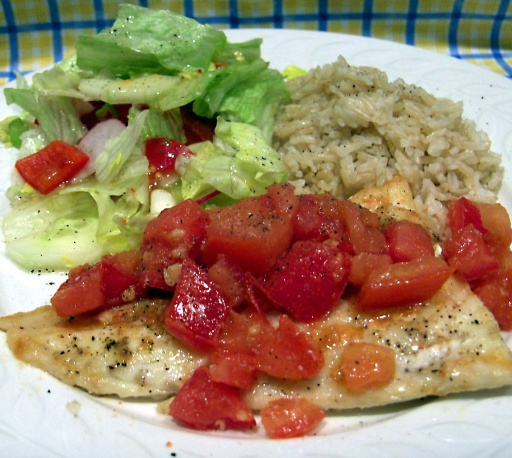background: (0, 1, 410, 313)
